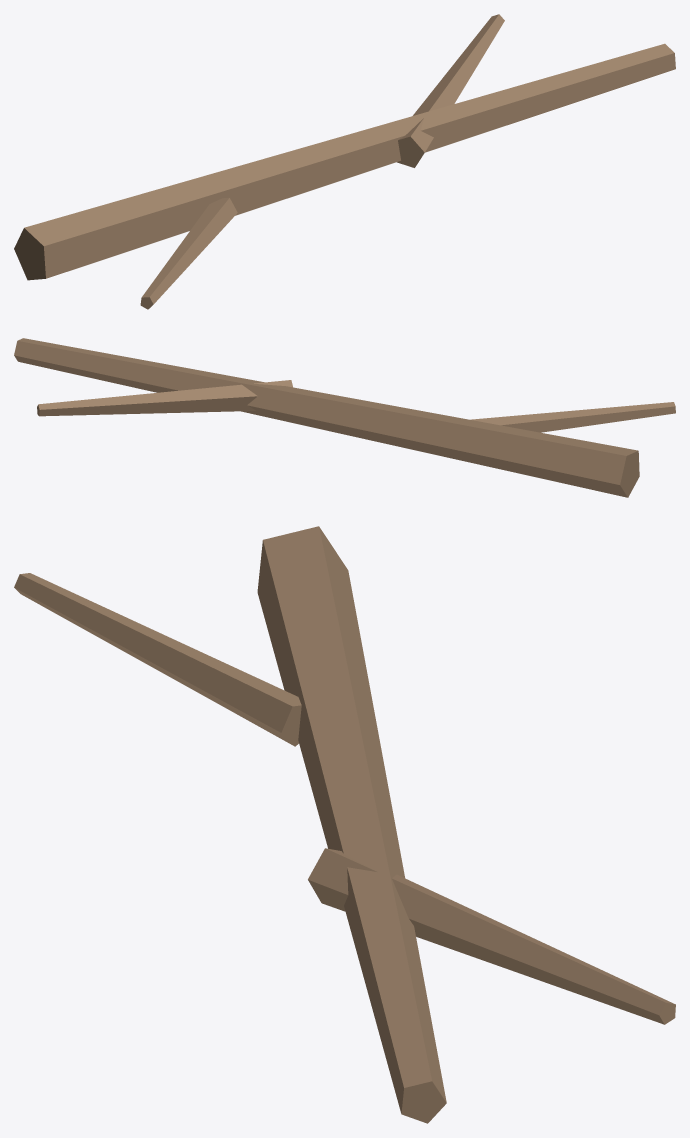
File: Branch_Fallen.fbx
The picture shows the model from 3 angles, top to bottom: view 1: azimuth 30°, elevation 25°; view 2: azimuth 150°, elevation 25°; view 3: azimuth 270°, elevation 25°; orthographic projection. The views are drawn at different scales.
Parts seen in each view (by area): view 1: Branch_Fallen_Mesh; view 2: Branch_Fallen_Mesh; view 3: Branch_Fallen_Mesh.
Boxes of the visible parts, x1=… form: Branch_Fallen_Mesh: x1=14, y1=14, x2=675, y2=309; Branch_Fallen_Mesh: x1=14, y1=338, x2=675, y2=497; Branch_Fallen_Mesh: x1=14, y1=526, x2=675, y2=1123.
Size of the model in its own units: 2.11 by 0.1515 by 1.08.
